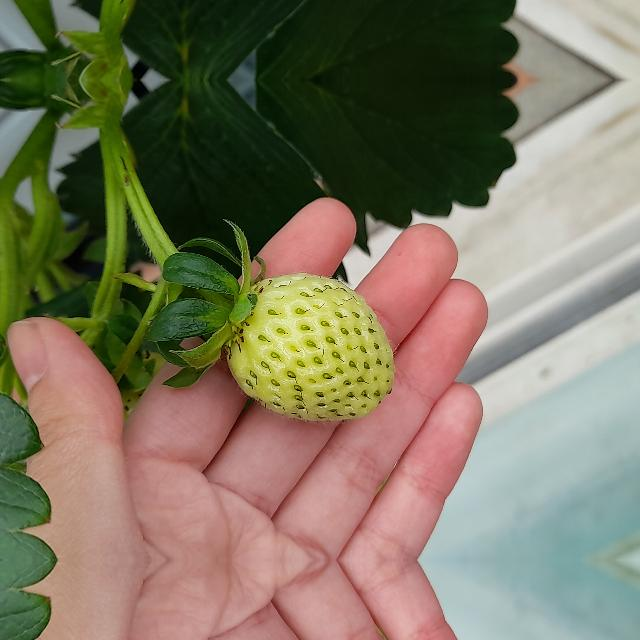Health_25: (226, 273, 394, 422)
